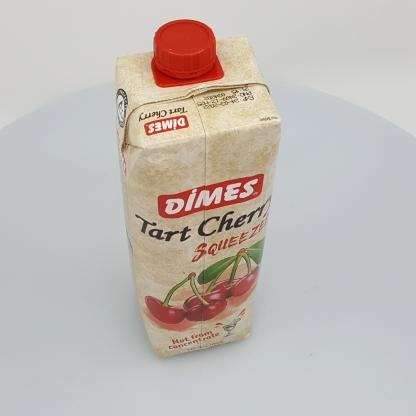DIMES--------1000ML: (115, 19, 281, 358)
